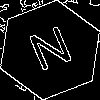N: (25, 25, 80, 81)
